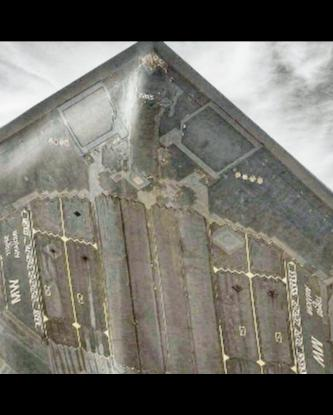B1: (0, 42, 332, 374)
